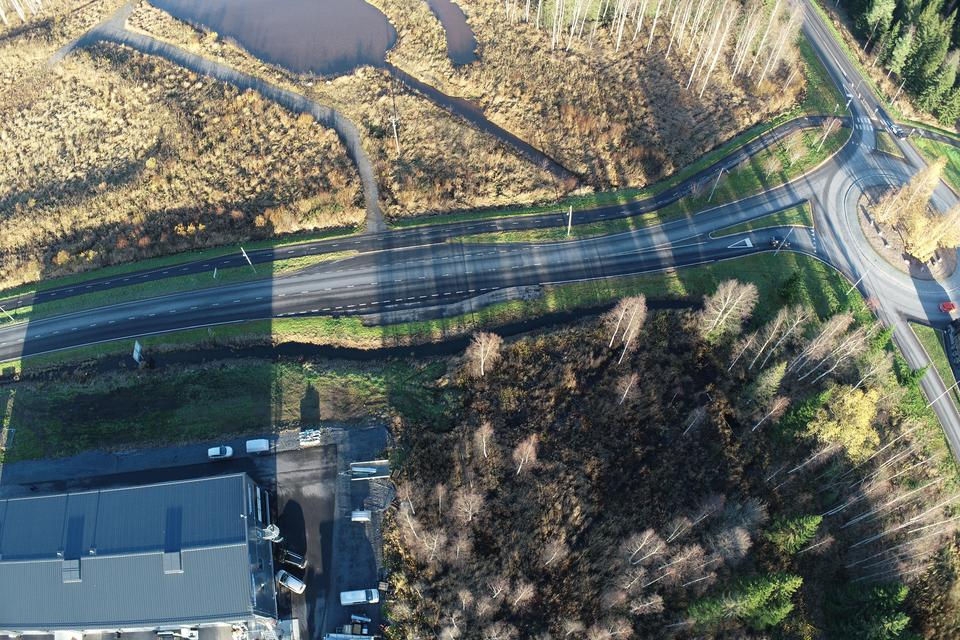intersection: (345, 185, 419, 342), (836, 110, 918, 142)
roundabout: (775, 147, 960, 376)
